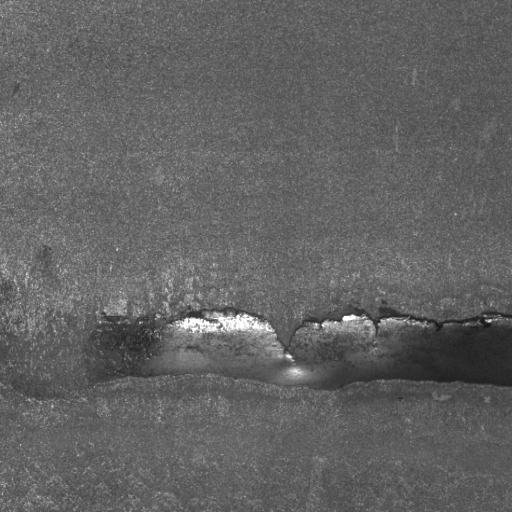qiaopi: (101, 304, 512, 390)
